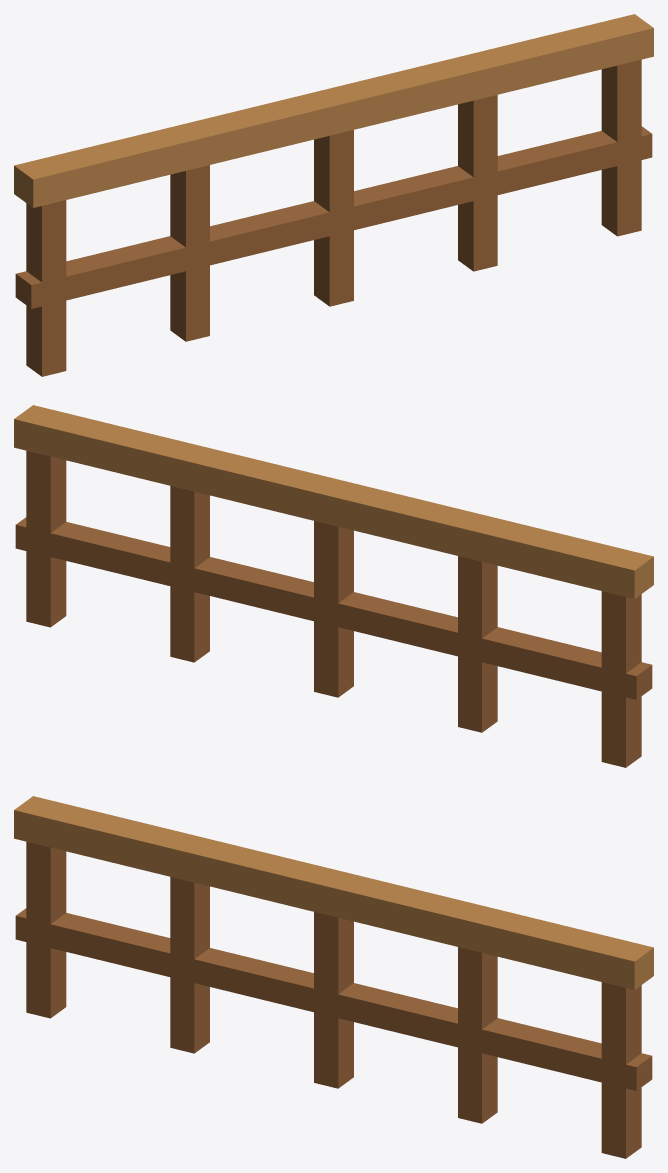
File: wood_railing.glb
3 renders of one model, top to bottom at view 1: azimuth 30°, elevation 25°; view 2: azimuth 150°, elevation 25°; view 3: azimuth 330°, elevation 25°, orthographic.
Parts seen in each view (by area): view 1: Rail_Top, Rail_Mid, Post_-1.9, Post_-0.95, Post_1.9, Post_0, Post_0.95; view 2: Rail_Top, Rail_Mid, Post_-1.9, Post_1.9, Post_-0.95, Post_0, Post_0.95; view 3: Rail_Top, Rail_Mid, Post_1.9, Post_-1.9, Post_0.95, Post_0, Post_-0.95.
Boxes of the visible parts, bbox=[...] form: Rail_Top: bbox=[14, 14, 653, 207]; Rail_Mid: bbox=[15, 126, 652, 308]; Post_-1.9: bbox=[26, 200, 66, 376]; Post_-0.95: bbox=[170, 165, 209, 341]; Post_1.9: bbox=[601, 59, 641, 236]; Post_0: bbox=[314, 130, 353, 306]; Post_0.95: bbox=[458, 95, 497, 271]; Rail_Top: bbox=[14, 405, 653, 598]; Rail_Mid: bbox=[15, 517, 652, 699]; Post_-1.9: bbox=[601, 591, 641, 767]; Post_1.9: bbox=[26, 450, 66, 627]; Post_-0.95: bbox=[458, 556, 497, 732]; Post_0: bbox=[314, 521, 353, 697]; Post_0.95: bbox=[170, 486, 209, 662]; Rail_Top: bbox=[14, 796, 653, 989]; Rail_Mid: bbox=[15, 908, 652, 1090]; Post_1.9: bbox=[601, 982, 641, 1158]; Post_-1.9: bbox=[26, 841, 66, 1018]; Post_0.95: bbox=[458, 947, 497, 1123]; Post_0: bbox=[314, 912, 353, 1088]; Post_-0.95: bbox=[170, 877, 209, 1053].
Size of the model in its own units: 4.1 by 1.27 by 0.22.
